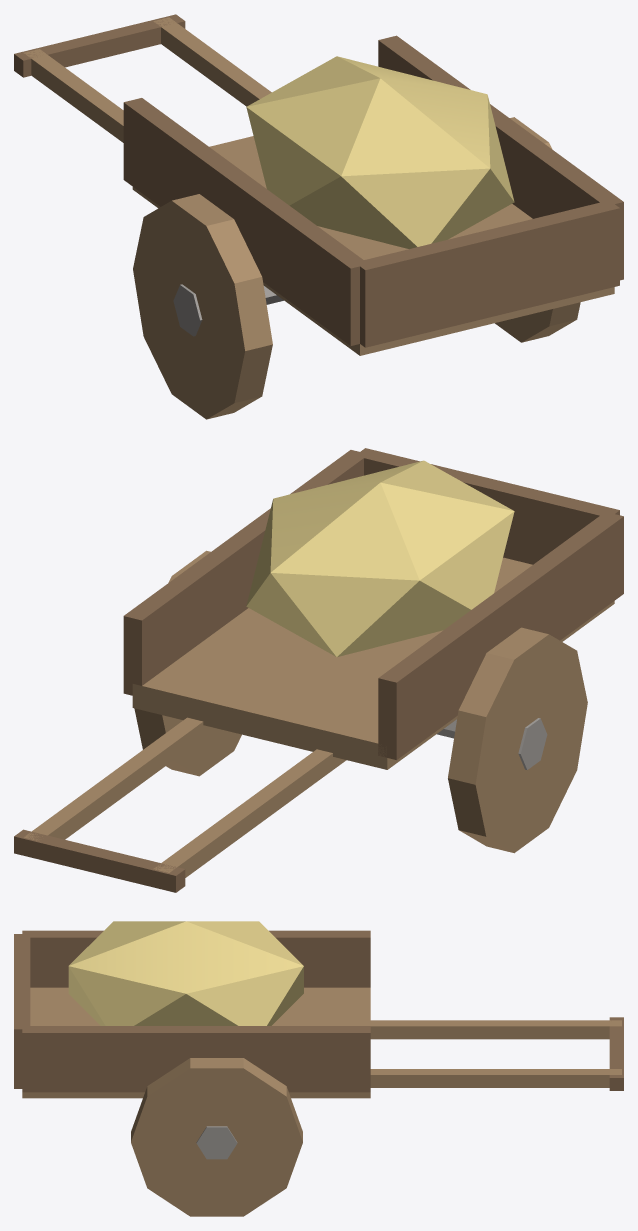
File: village_cart.glb
3 views of the same model, one above another, from view 1: azimuth 30°, elevation 25°; view 2: azimuth 150°, elevation 25°; view 3: azimuth 270°, elevation 25° (orthographic). The views are drawn at different scales.
Parts seen in each view (by area): view 1: village_cart; view 2: village_cart; view 3: village_cart.
Boxes of the visible parts, x1,y1,x2,y2 form: village_cart: (14,14,623,419); village_cart: (14,448,623,892); village_cart: (14,921,623,1216).
Size of the model in its own units: 1.5 by 1.24 by 2.98.
